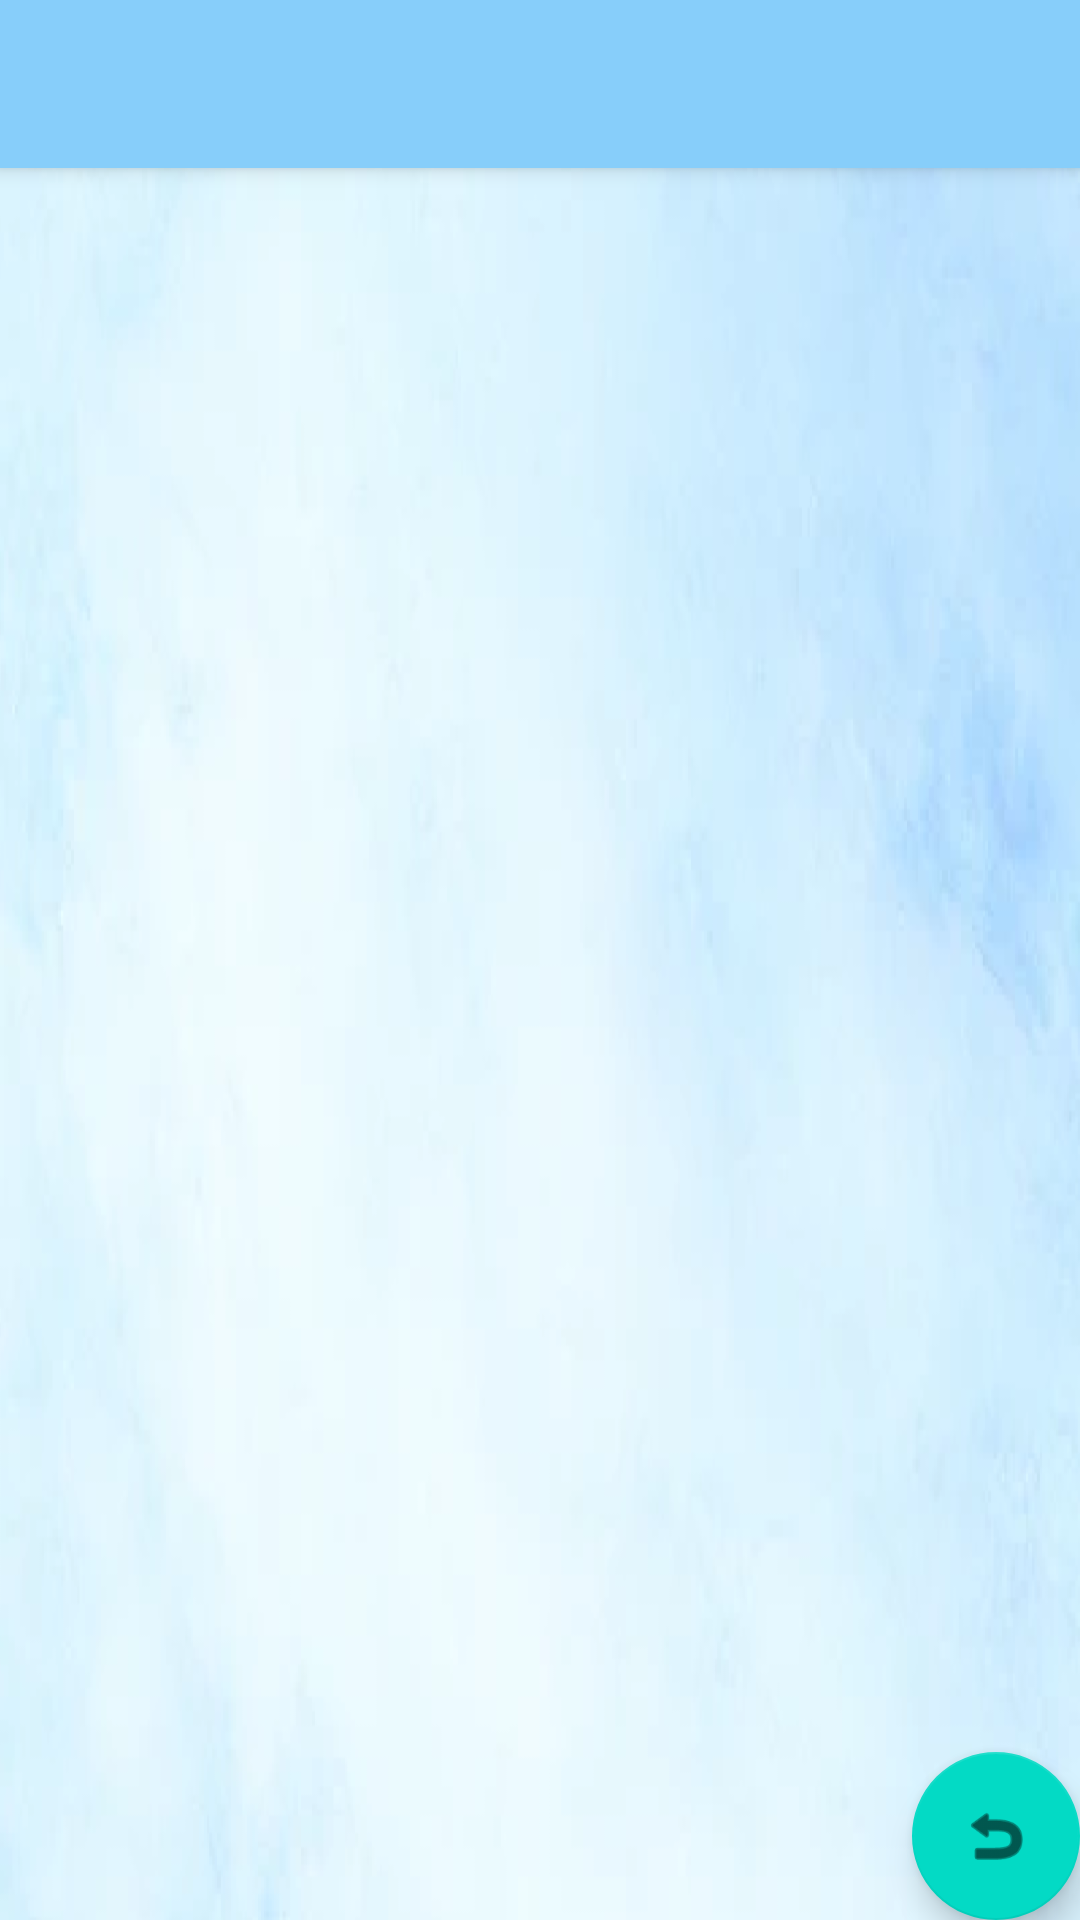

Icons on this 1080 × 1920 Android screen, each with its box as (x1, y1, x2, y2):
revert: (912, 1752, 1080, 1920)
